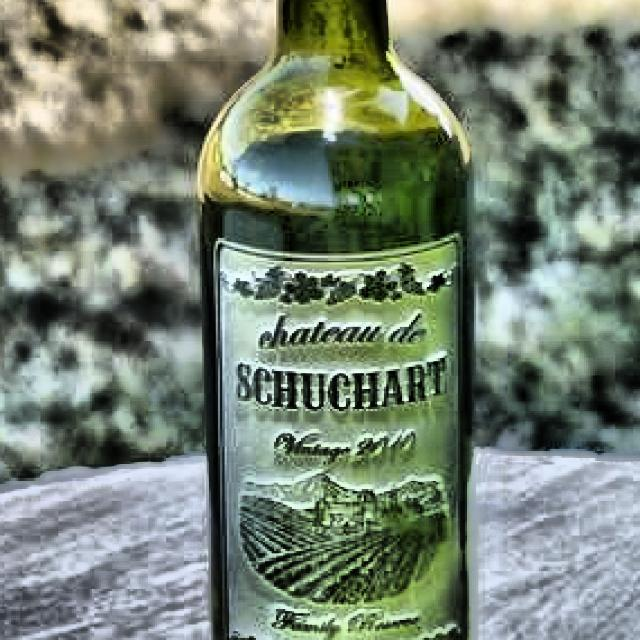glass: (188, 0, 486, 640)
